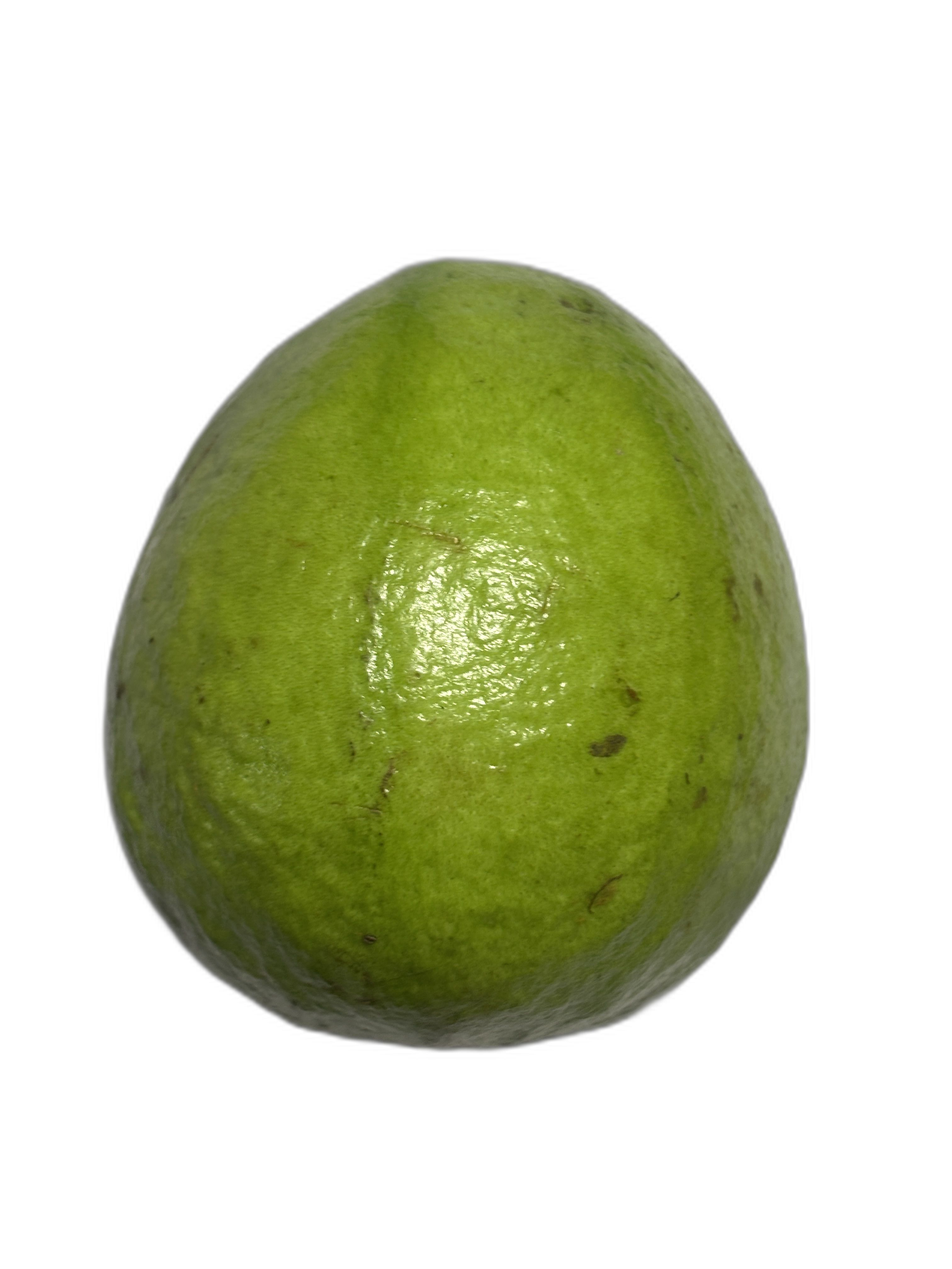guava: (264, 259, 855, 1236)
